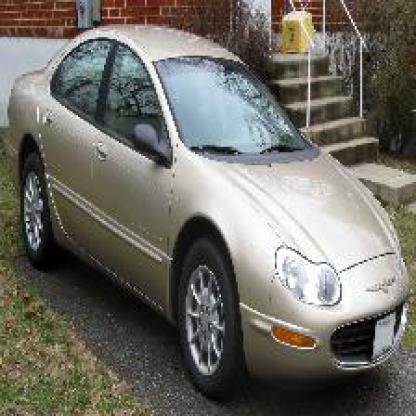not_emergency: (4, 6, 410, 384)
